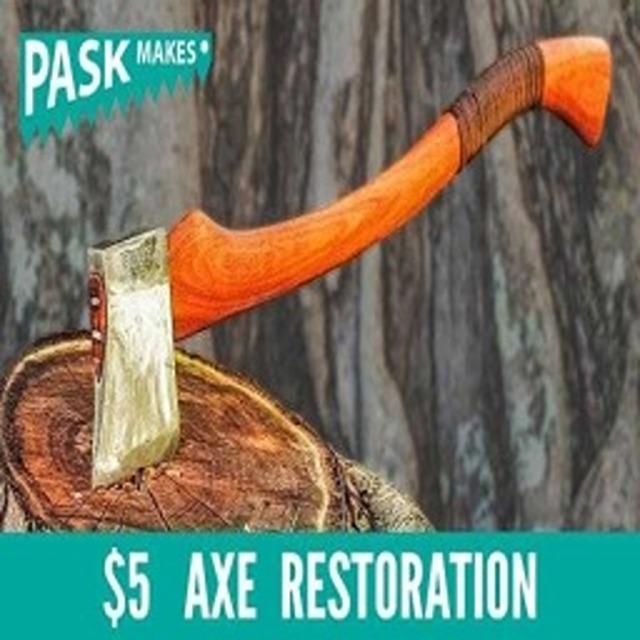ax: (75, 24, 626, 498)
